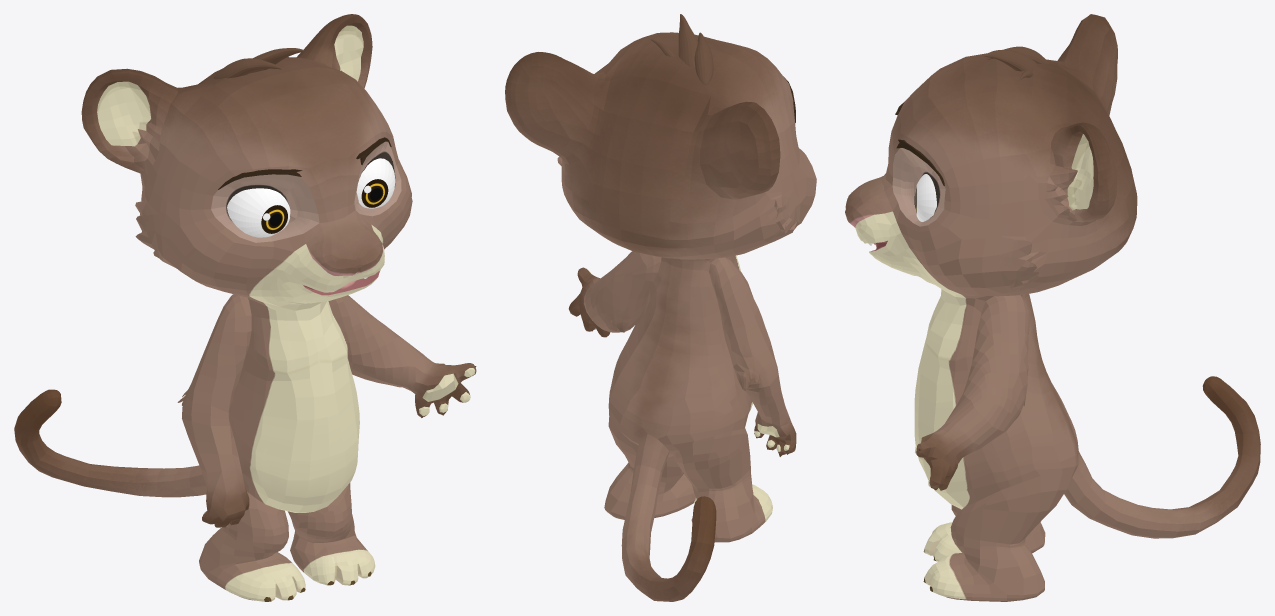
Rendered from Zootopia.glb.
The picture shows the model from 3 angles, left to right: view 1: azimuth 30°, elevation 25°; view 2: azimuth 150°, elevation 25°; view 3: azimuth 270°, elevation 25°; orthographic projection. The views are drawn at different scales.
Parts seen in each view (by area): view 1: Body_low, Eyeball01_low, Eyeball02_low, hair_low; view 2: Body_low, hair_low; view 3: Body_low, hair_low, Eyeball02_low.
Part boxes in pixels (<box>): Body_low: <box>14,14,476,601</box>; Eyeball01_low: <box>227,188,290,237</box>; Eyeball02_low: <box>356,158,395,208</box>; hair_low: <box>213,48,304,79</box>; Body_low: <box>505,32,816,601</box>; hair_low: <box>650,14,713,84</box>; Body_low: <box>845,14,1260,601</box>; hair_low: <box>984,46,1049,79</box>; Eyeball02_low: <box>914,174,936,221</box>.
Size of the model in its own units: 3.06 by 5.03 by 3.64.
Materials: 7 (7 with a texture image).
